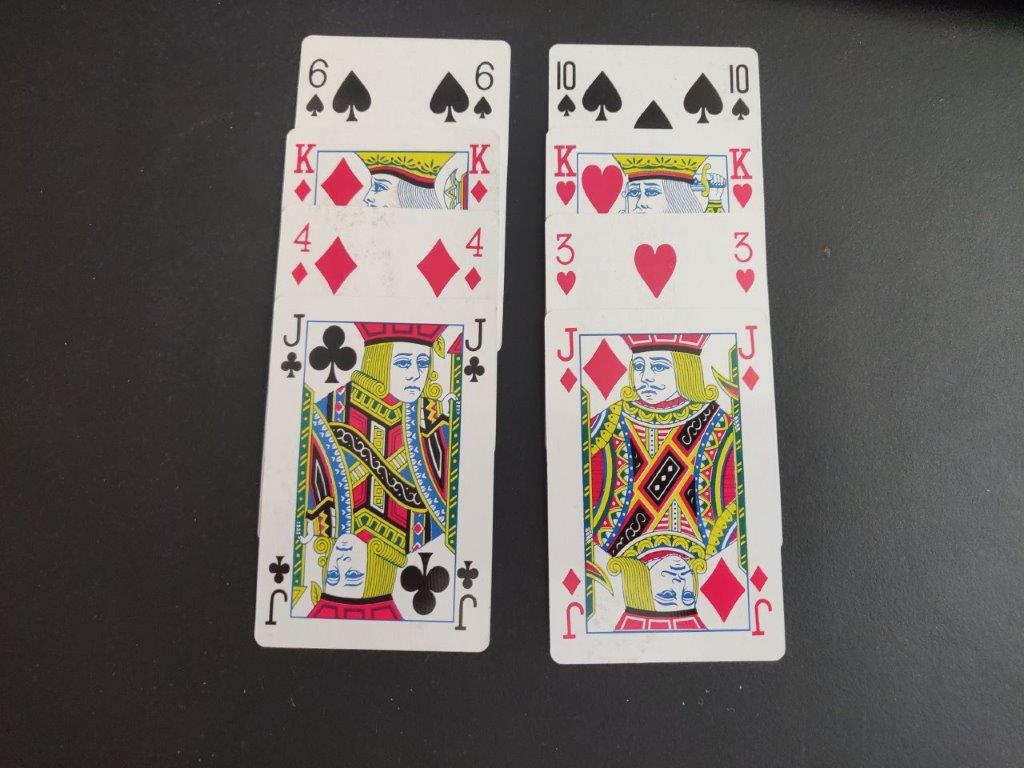10S: (551, 55, 582, 123), (723, 58, 755, 123)
3H: (551, 228, 584, 303), (727, 227, 761, 296)
4D: (460, 216, 488, 294), (288, 218, 314, 287)
6S: (466, 56, 499, 126), (299, 54, 331, 126)
JC: (278, 307, 310, 384), (462, 315, 490, 389)
JD: (551, 325, 584, 397), (735, 321, 765, 397)
KD: (285, 137, 320, 203), (466, 138, 495, 207)
KH: (725, 143, 756, 214), (549, 141, 580, 208)
